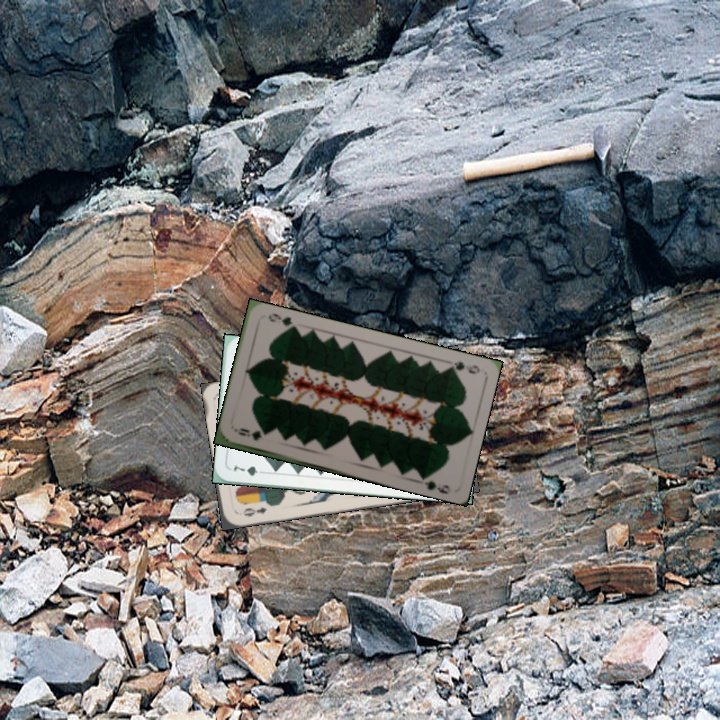EO: (238, 503, 269, 519)
G7: (229, 461, 269, 479)
G9: (443, 357, 482, 377), (232, 425, 271, 443)
